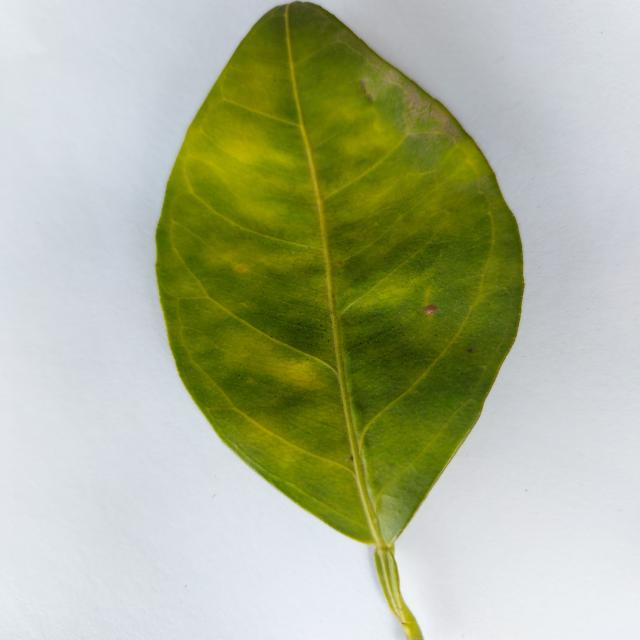greening: (156, 2, 523, 640)
